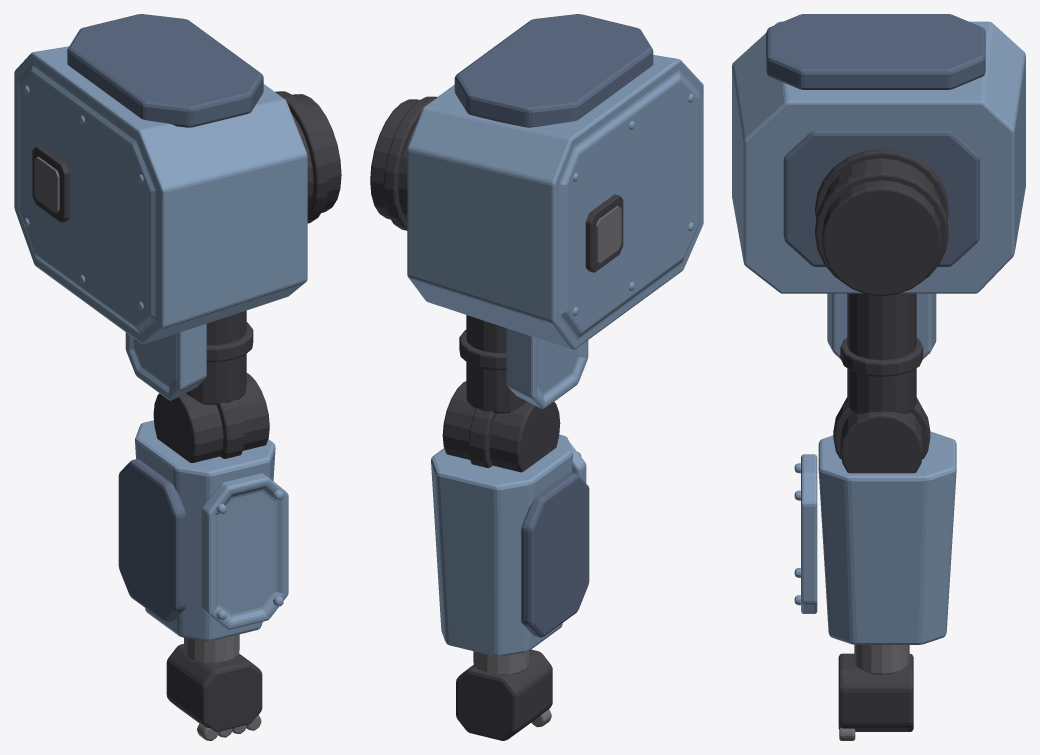
Rendered from recon_accurate_arm_r.glb.
The picture shows the model from 3 angles, left to right: view 1: azimuth 30°, elevation 25°; view 2: azimuth 150°, elevation 25°; view 3: azimuth 270°, elevation 25°; orthographic projection. The views are drawn at different scales.
Parts seen in each view (by area): view 1: PauldronR, PauldronTopR, ForearmFrontR, ForearmOuterR, ForearmR, ElbowR, FistR, UpperArmR, ShoulderJointR, UpperArmFrameR, PauldronVentR, WristR (+1 smaller); view 2: PauldronR, ForearmR, PauldronTopR, ForearmOuterR, ElbowR, FistR, UpperArmR, ShoulderJointR, UpperArmFrameR, PauldronVentR, PauldronVentInR, WristR; view 3: PauldronR, ForearmR, ShoulderJointR, PauldronTopR, PauldronInnerR, UpperArmFrameR, ElbowR, FistR, ForearmFrontR, UpperArmR, WristR.
Part boxes in pixels (bbox=[...]): PauldronR: bbox=[14, 46, 307, 344]; PauldronTopR: bbox=[67, 14, 263, 127]; ForearmFrontR: bbox=[201, 473, 288, 629]; ForearmOuterR: bbox=[118, 458, 186, 622]; ForearmR: bbox=[135, 420, 275, 641]; ElbowR: bbox=[153, 373, 269, 462]; FistR: bbox=[166, 644, 262, 732]; UpperArmR: bbox=[125, 324, 206, 400]; ShoulderJointR: bbox=[275, 91, 341, 223]; UpperArmFrameR: bbox=[186, 310, 253, 404]; PauldronVentR: bbox=[32, 145, 69, 222]; WristR: bbox=[184, 634, 239, 662]; PauldronR: bbox=[407, 55, 703, 349]; ForearmR: bbox=[431, 434, 572, 656]; PauldronTopR: bbox=[454, 14, 653, 127]; ForearmOuterR: bbox=[521, 472, 589, 637]; ElbowR: bbox=[442, 381, 560, 472]; FistR: bbox=[456, 649, 552, 740]; UpperArmR: bbox=[506, 328, 588, 408]; ShoulderJointR: bbox=[370, 96, 437, 230]; UpperArmFrameR: bbox=[459, 315, 527, 413]; PauldronVentR: bbox=[585, 194, 623, 272]; PauldronVentInR: bbox=[596, 206, 621, 262]; WristR: bbox=[473, 651, 529, 674]; PauldronR: bbox=[732, 21, 1025, 293]; ForearmR: bbox=[818, 431, 956, 644]; ShoulderJointR: bbox=[815, 148, 948, 296]; PauldronTopR: bbox=[766, 14, 985, 89]; PauldronInnerR: bbox=[783, 130, 979, 266]; UpperArmFrameR: bbox=[840, 293, 923, 413]; ElbowR: bbox=[833, 397, 930, 473]; FistR: bbox=[838, 653, 913, 731]; ForearmFrontR: bbox=[794, 454, 817, 613]; UpperArmR: bbox=[827, 293, 936, 359]; WristR: bbox=[854, 645, 909, 674].
Size of the model in its own units: 2.34 by 6.36 by 2.55.
